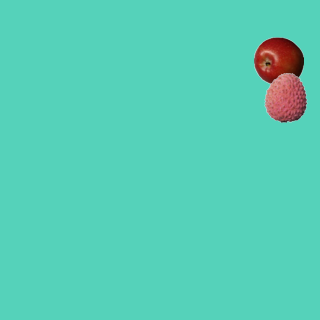Apple Braeburn: (253, 36, 303, 86)
Lychee: (260, 72, 310, 122)
